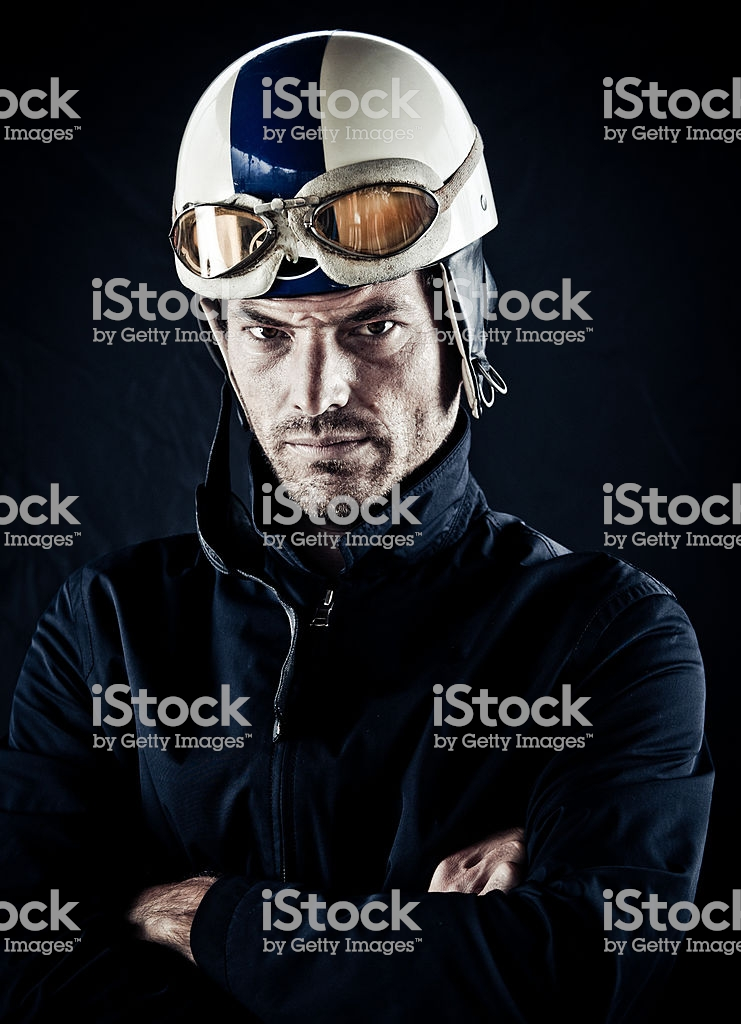helmet: (154, 62, 490, 286)
